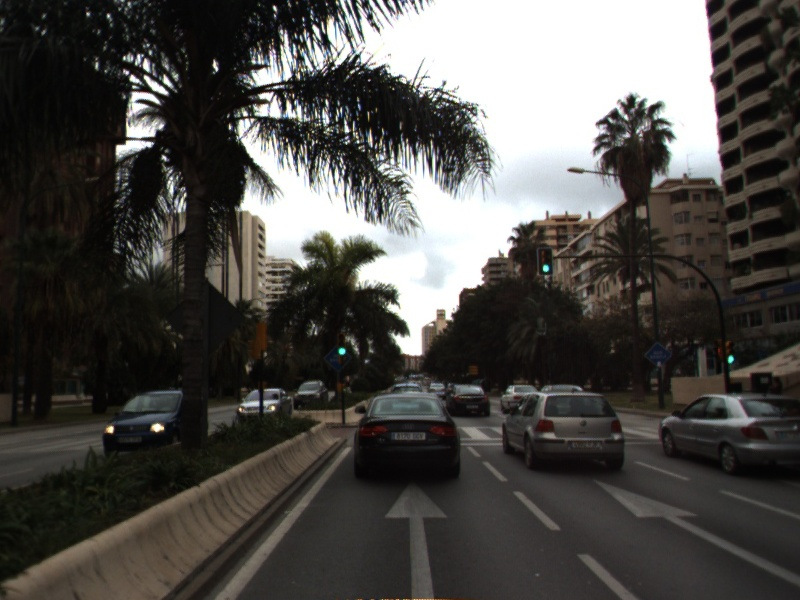STRAIGHT: (587, 475, 800, 584), (382, 477, 454, 600)
